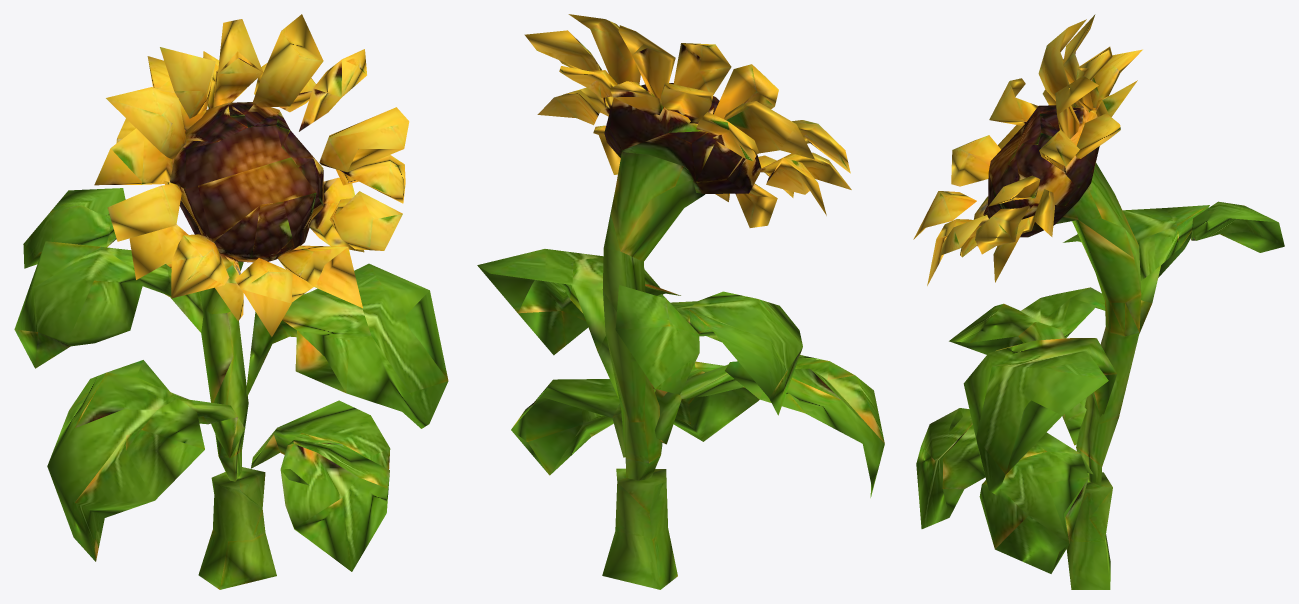
The model's file is crop_sunflower.glb.
The picture shows the model from 3 angles, left to right: view 1: azimuth 30°, elevation 25°; view 2: azimuth 150°, elevation 25°; view 3: azimuth 270°, elevation 25°; orthographic projection. The views are drawn at different scales.
Bounding box in the file's own units: 0.7191 × 0.9863 × 0.6278.
1 material, 1 textured.
